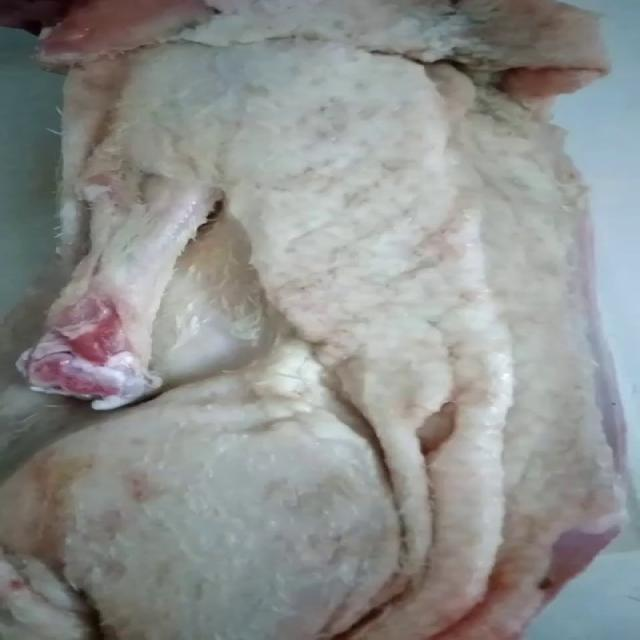chicken: (1, 0, 628, 638)
